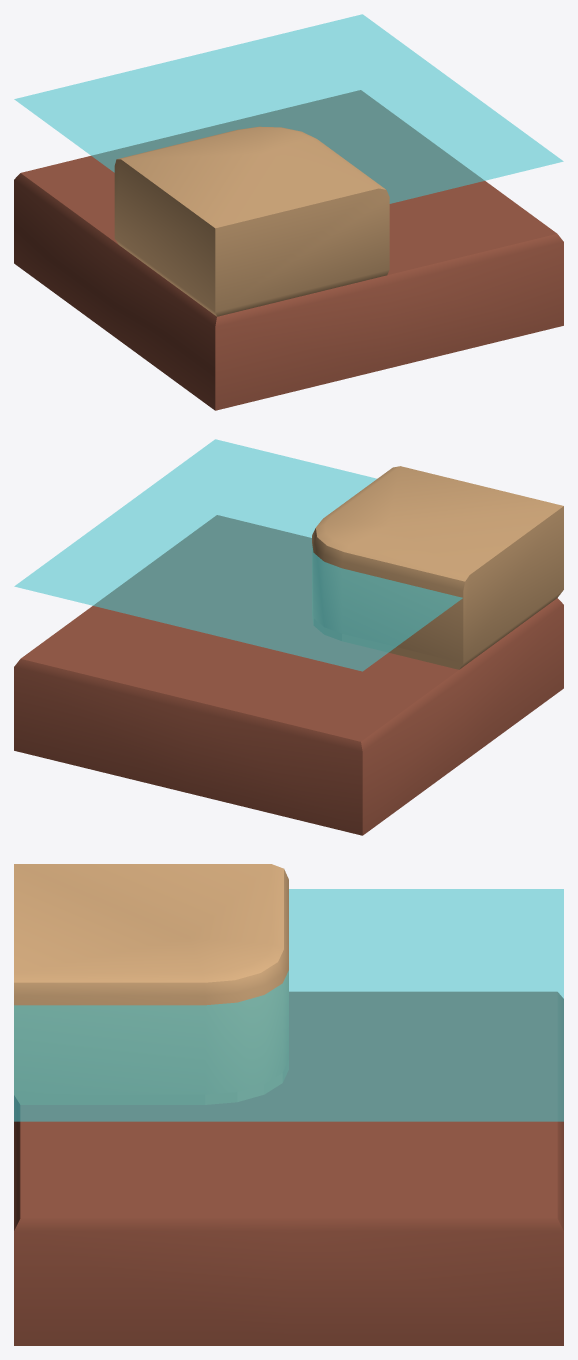
Rendered from square_sand_waterOuterCorner_noSides.fbx.
3 views of the same model, one above another, from view 1: azimuth 30°, elevation 25°; view 2: azimuth 150°, elevation 25°; view 3: azimuth 270°, elevation 25° (orthographic). The views are drawn at different scales.
Visible parts, largest first — view 1: square_sand_waterOuterCorner_noSides; view 2: square_sand_waterOuterCorner_noSides; view 3: square_sand_waterOuterCorner_noSides.
Boxes of the visible parts, x1=… form: square_sand_waterOuterCorner_noSides: x1=14, y1=14, x2=563, y2=410; square_sand_waterOuterCorner_noSides: x1=14, y1=439, x2=563, y2=835; square_sand_waterOuterCorner_noSides: x1=14, y1=864, x2=563, y2=1345.
Size of the model in its own units: 2 by 1 by 2.
